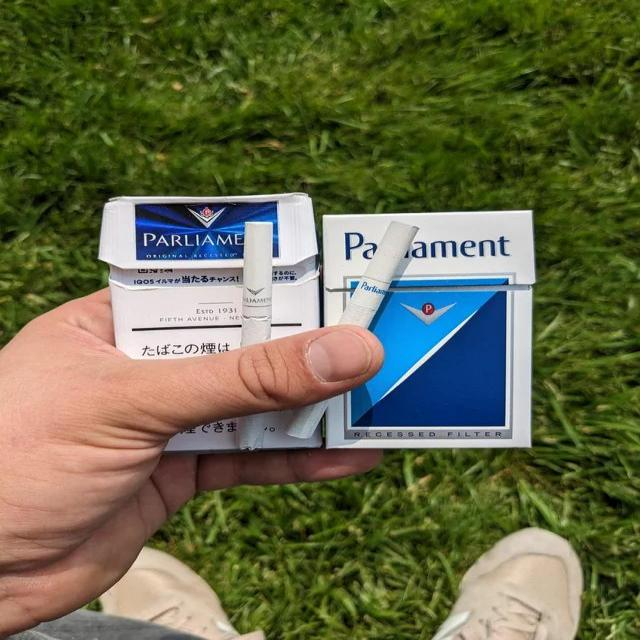cigarette: (342, 221, 420, 327), (241, 222, 272, 347), (286, 402, 327, 439), (239, 415, 264, 451)
